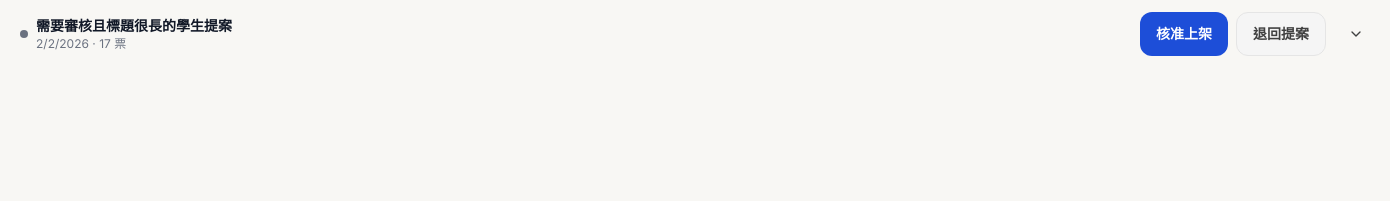
toggles full detail and attribution access when expanded=true
Click the button named "提案詳情：需要審核且標題很長的學生提案". click: (1356,34)
box: [1334, 12, 1378, 56]
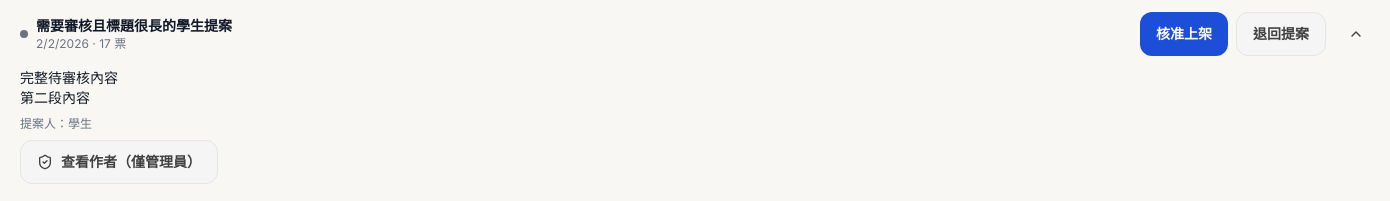
Click the button named "提案詳情：需要審核且標題很長的學生提案". click: (1356,34)
box: [1334, 12, 1378, 56]
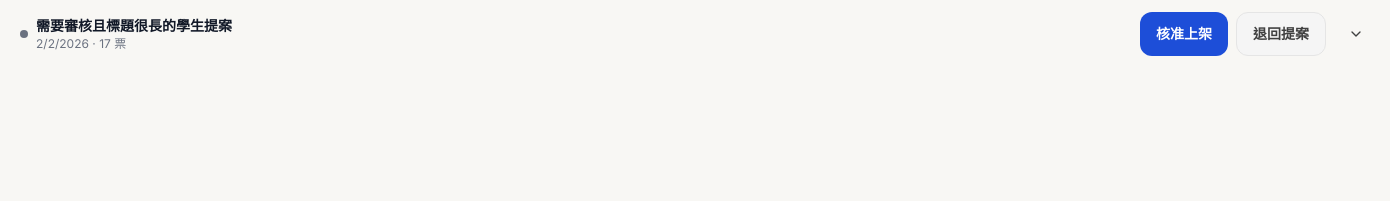
Result: the button "查看作者（僅管理員）" is gone
